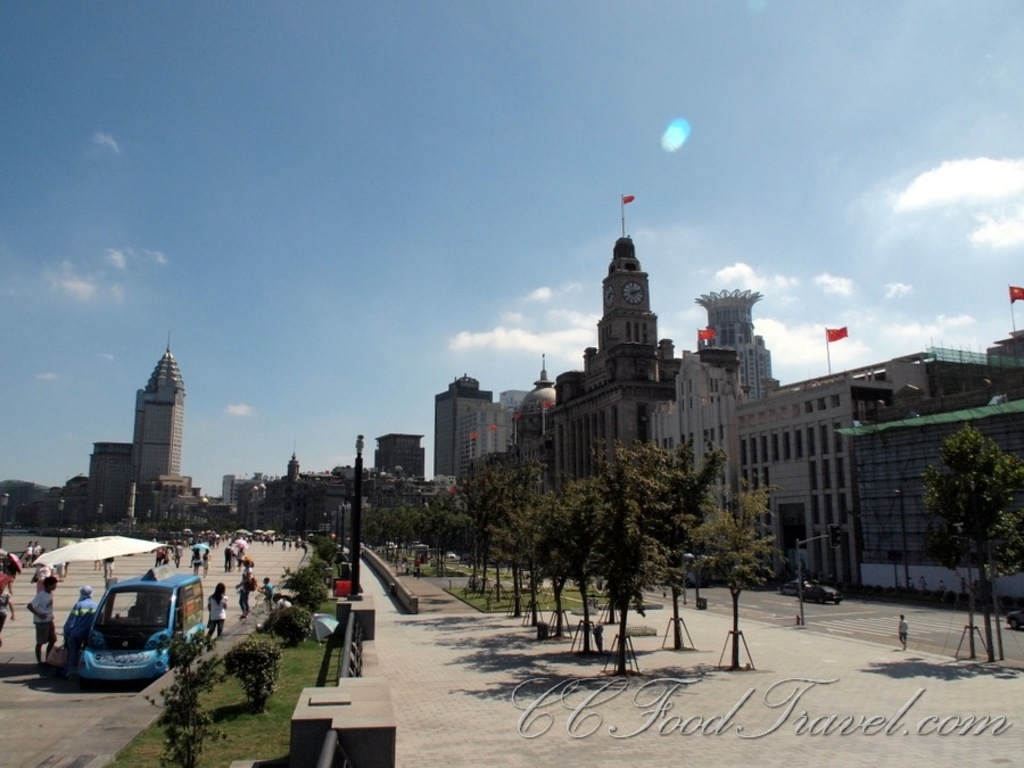Tree: (344, 435, 735, 640), (925, 425, 1022, 662), (699, 482, 775, 666), (591, 477, 645, 658)
